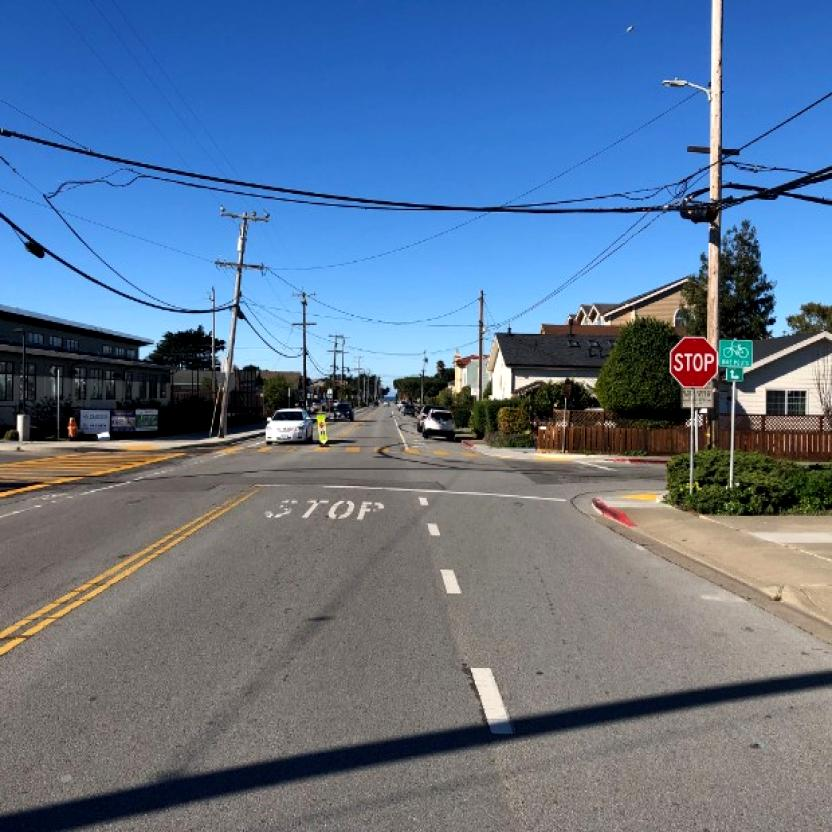Pole: (730, 383, 736, 492), (690, 391, 696, 497)
Sign: (670, 338, 718, 389)
